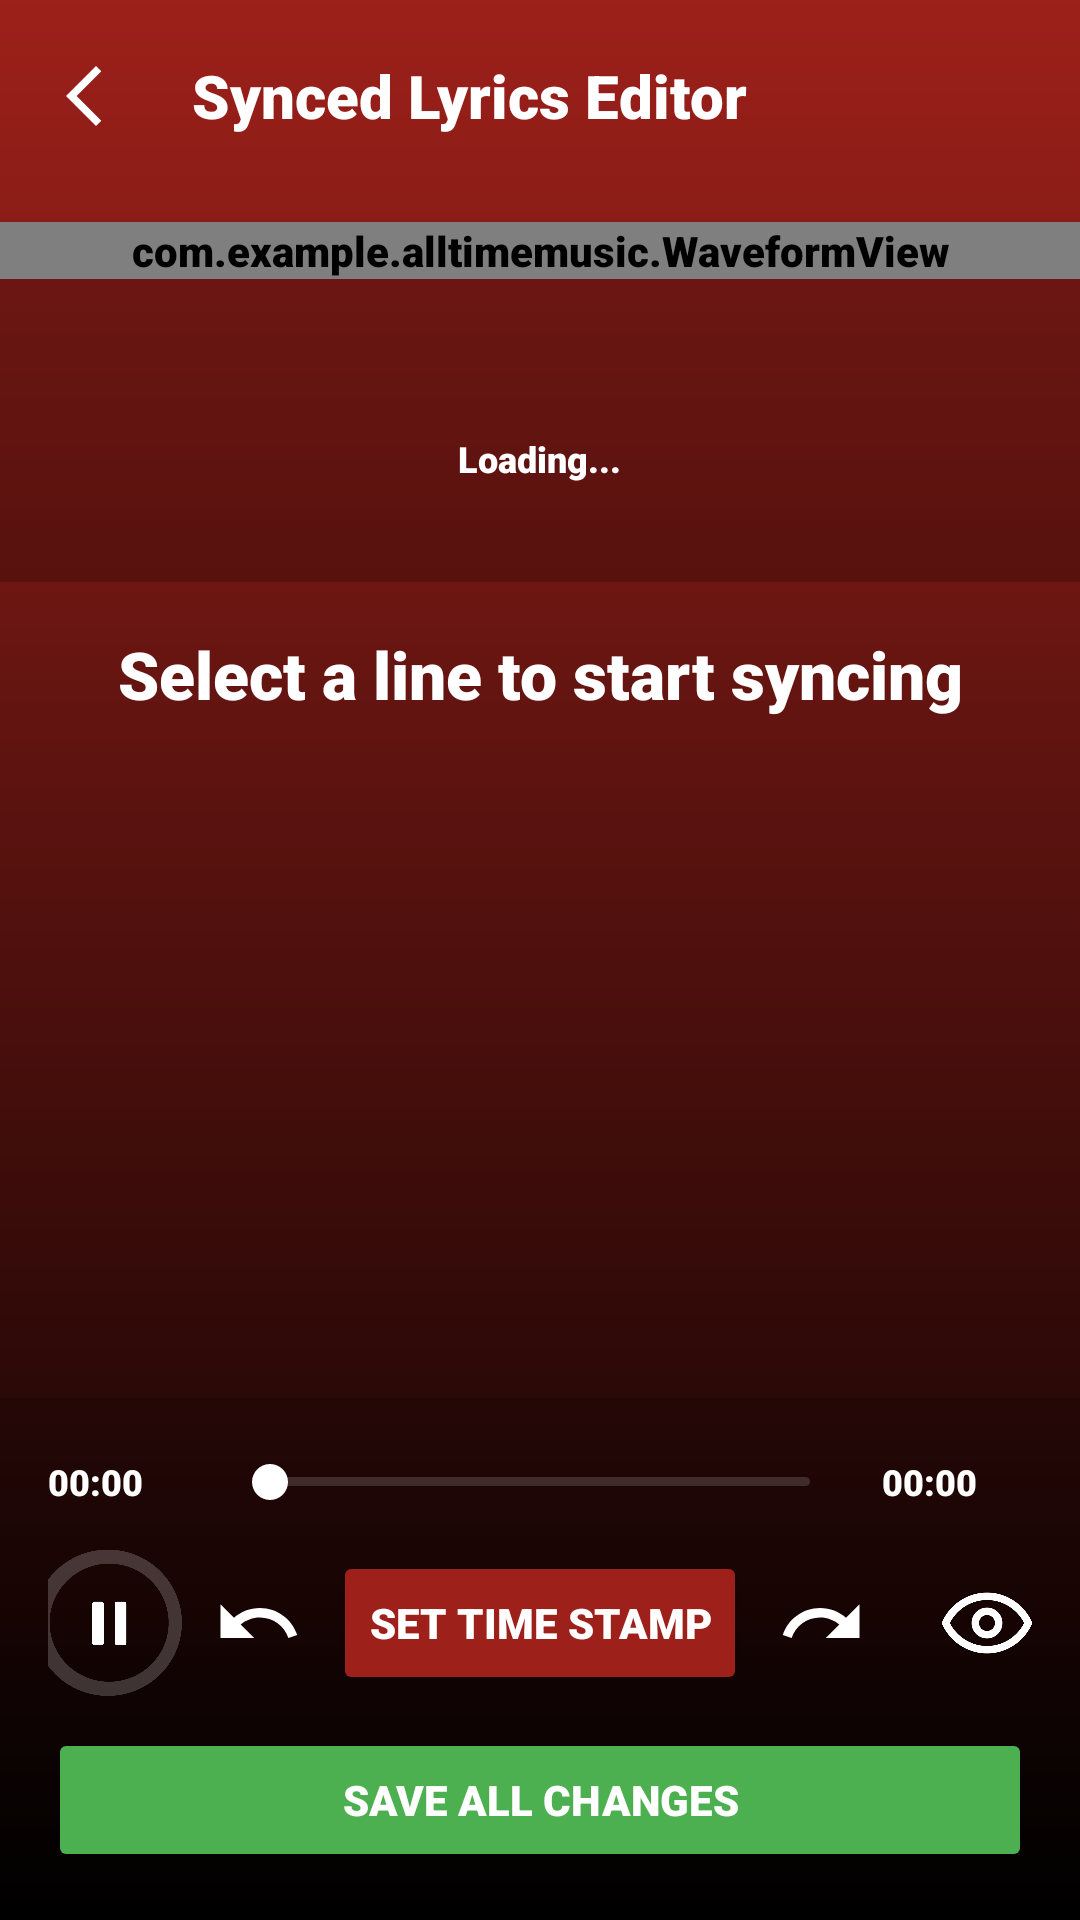

Icon click points for this 1080px×1920px phone screenshot, format [x,y]:
arrow back: [83,96]
pause: [115,1623]
Redo: [821,1621]
Undo: [258,1621]
